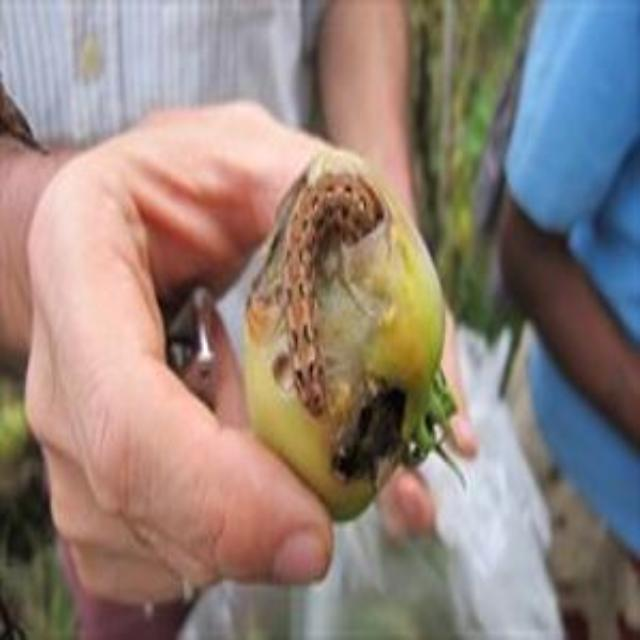Cotton bollworm: (236, 154, 427, 430)
